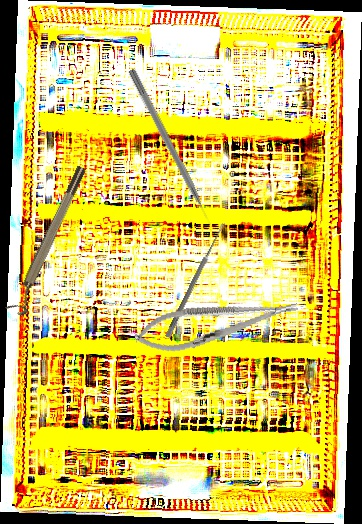Fixation Ring: (5, 164, 95, 318)
Needle Holder: (131, 287, 302, 360)
Pusher: (125, 67, 216, 231)
Surgical Spoon: (164, 221, 227, 339)
